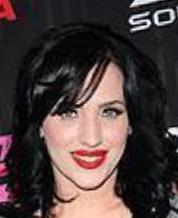face: (57, 103, 120, 169)
